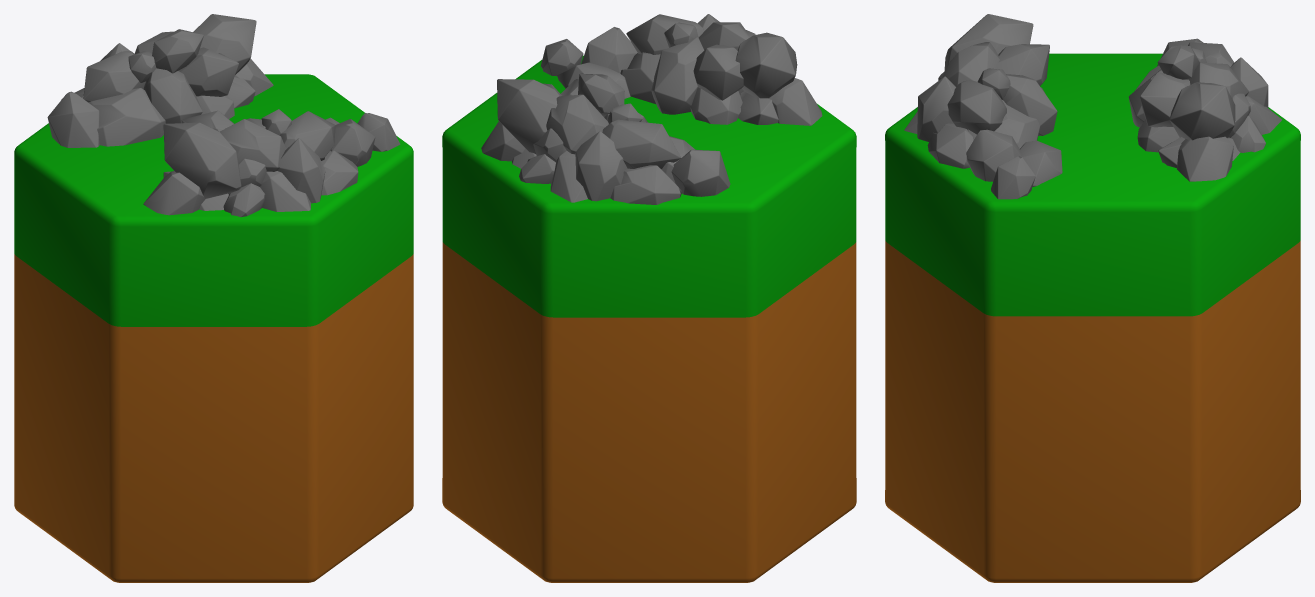
File: rockyTile3.fbx
3 views of the same model, side by side, from view 1: azimuth 30°, elevation 25°; view 2: azimuth 150°, elevation 25°; view 3: azimuth 270°, elevation 25° (orthographic). The views are drawn at different scales.
Visible parts, largest first — view 1: Cylinder, Icosphere.027, Icosphere.005, Icosphere.009, Icosphere.010, Icosphere.015, Icosphere.028, Icosphere.013, Icosphere.014, Icosphere.017, Icosphere.023, Icosphere.036 (+13 smaller); view 2: Cylinder, Icosphere.010, Icosphere.027, Icosphere.032, Icosphere.013, Icosphere, Icosphere.011, Icosphere.009, Icosphere.031, Icosphere.004, Icosphere.023, Icosphere.026 (+13 smaller); view 3: Cylinder, Icosphere.010, Icosphere.030, Icosphere.006, Icosphere.027, Icosphere.026, Icosphere.032, Icosphere.014, Icosphere.017, Icosphere.031, Icosphere.028, Icosphere.021 (+13 smaller).
Boxes of the visible parts, left/top/right/bottom form: Cylinder: left=14, top=74, right=413, bottom=582; Icosphere.027: left=163, top=122, right=241, bottom=198; Icosphere.005: left=88, top=88, right=165, bottom=146; Icosphere.009: left=47, top=91, right=100, bottom=147; Icosphere.010: left=193, top=14, right=256, bottom=74; Icosphere.015: left=143, top=68, right=202, bottom=123; Icosphere.028: left=220, top=119, right=286, bottom=171; Icosphere.013: left=83, top=51, right=145, bottom=102; Icosphere.014: left=178, top=47, right=238, bottom=96; Icosphere.017: left=277, top=138, right=325, bottom=203; Icosphere.023: left=143, top=171, right=205, bottom=215; Icosphere.036: left=152, top=29, right=203, bottom=73; Cylinder: left=442, top=55, right=856, bottom=582; Icosphere.010: left=497, top=79, right=561, bottom=153; Icosphere.027: left=735, top=32, right=797, bottom=98; Icosphere.032: left=651, top=37, right=704, bottom=114; Icosphere.013: left=602, top=119, right=680, bottom=168; Icosphere: left=575, top=131, right=627, bottom=201; Icosphere.011: left=546, top=94, right=608, bottom=154; Icosphere.009: left=671, top=149, right=730, bottom=196; Icosphere.031: left=693, top=44, right=743, bottom=100; Icosphere.004: left=610, top=165, right=682, bottom=204; Icosphere.023: left=769, top=78, right=822, bottom=125; Icosphere.026: left=581, top=27, right=637, bottom=73; Cylinder: left=885, top=53, right=1300, bottom=582; Icosphere.010: left=1169, top=82, right=1235, bottom=140; Icosphere.030: left=947, top=80, right=1006, bottom=134; Icosphere.006: left=1177, top=136, right=1233, bottom=181; Icosphere.027: left=944, top=14, right=1033, bottom=70; Icosphere.026: left=966, top=129, right=1021, bottom=181; Icosphere.032: left=1003, top=74, right=1057, bottom=135; Icosphere.014: left=1140, top=72, right=1190, bottom=127; Icosphere.017: left=917, top=76, right=956, bottom=141; Icosphere.031: left=998, top=44, right=1049, bottom=85; Icosphere.028: left=942, top=42, right=999, bottom=86; Icosphere.021: left=927, top=123, right=973, bottom=168.
Size of the model in its own units: 173 by 244 by 198.
